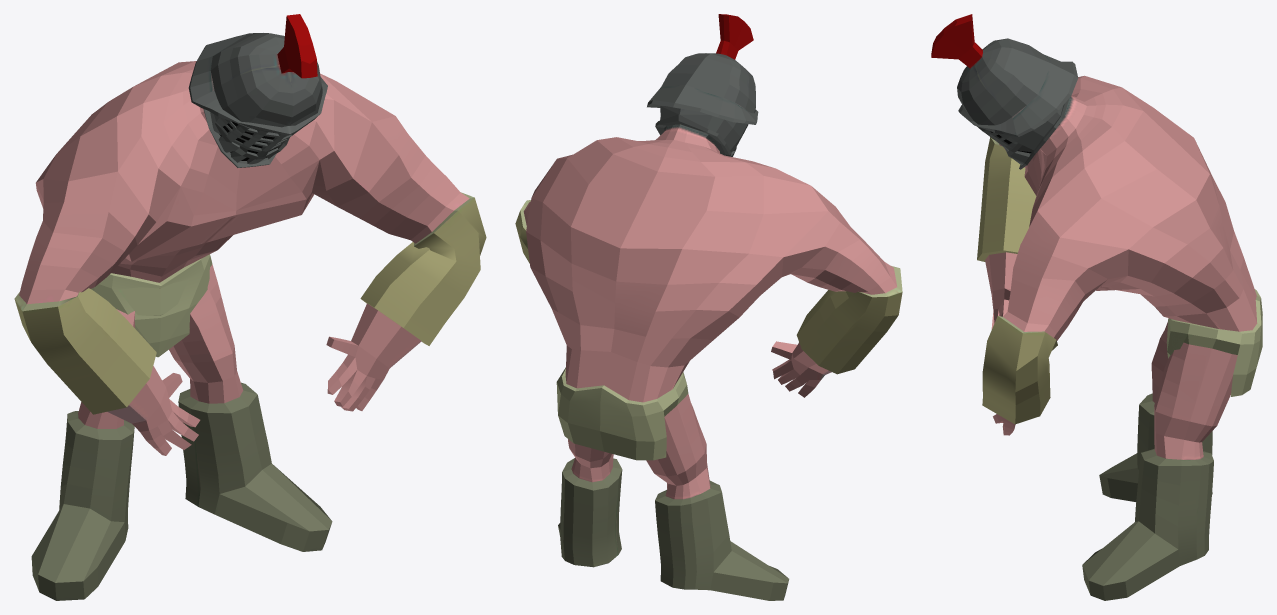
File: GladiatorCelebracion_000493.obj
The picture shows the model from 3 angles, left to right: view 1: azimuth 30°, elevation 25°; view 2: azimuth 150°, elevation 25°; view 3: azimuth 270°, elevation 25°; orthographic projection. The views are drawn at different scales.
Parts seen in each view (by area): view 1: Gadiador_Gladiador_H; view 2: Gadiador_Gladiador_H; view 3: Gadiador_Gladiador_H.
Boxes of the visible parts, x1,y1,x2,y2 form: Gadiador_Gladiador_H: [14, 14, 486, 600]; Gadiador_Gladiador_H: [515, 14, 902, 600]; Gadiador_Gladiador_H: [931, 14, 1262, 600].
Bounding box in the file's own units: 5.09 × 6.41 × 3.58.
Materials: 1 (1 with a texture image).
